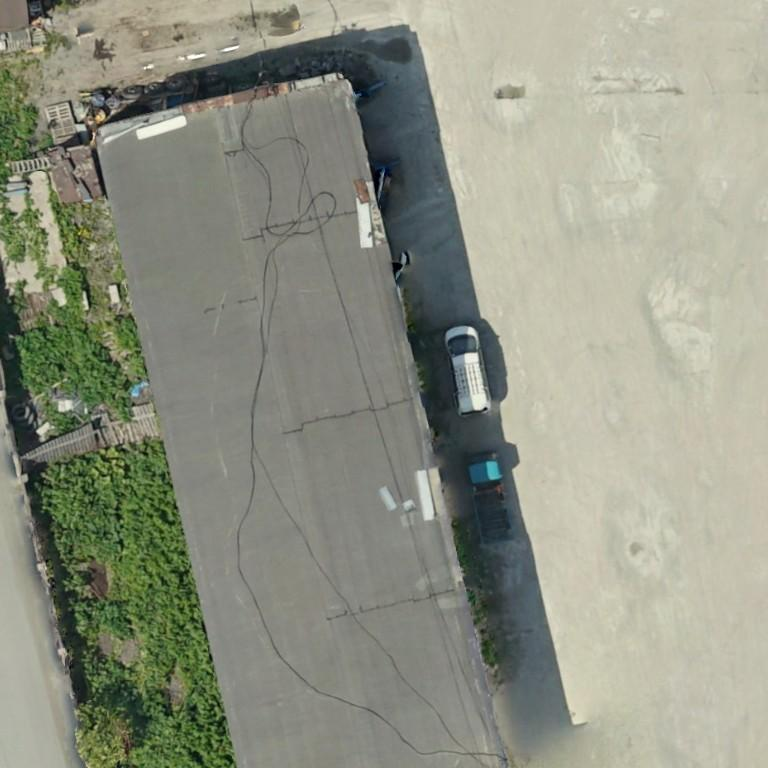hogweed: (35, 440, 235, 767), (10, 267, 128, 412), (115, 318, 139, 350)
